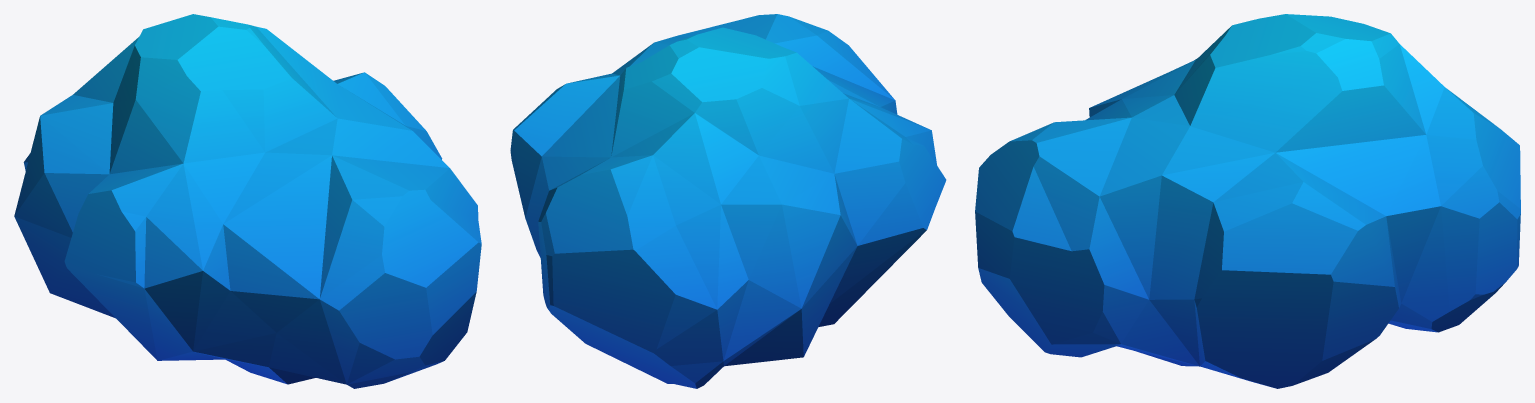
File: crystal_24.fbx
3 renders of one model, left to right at view 1: azimuth 30°, elevation 25°; view 2: azimuth 150°, elevation 25°; view 3: azimuth 270°, elevation 25°, orthographic. The views are drawn at different scales.
Visible parts, largest first — view 1: crystal_24; view 2: crystal_24; view 3: crystal_24.
Boxes of the visible parts, x1,y1,x2,y2 form: crystal_24: [14, 14, 481, 388]; crystal_24: [510, 14, 946, 388]; crystal_24: [975, 14, 1520, 388].
Bounding box in the file's own units: 3.98 × 3.07 × 4.87.
Materials: 1 (1 with a texture image).
